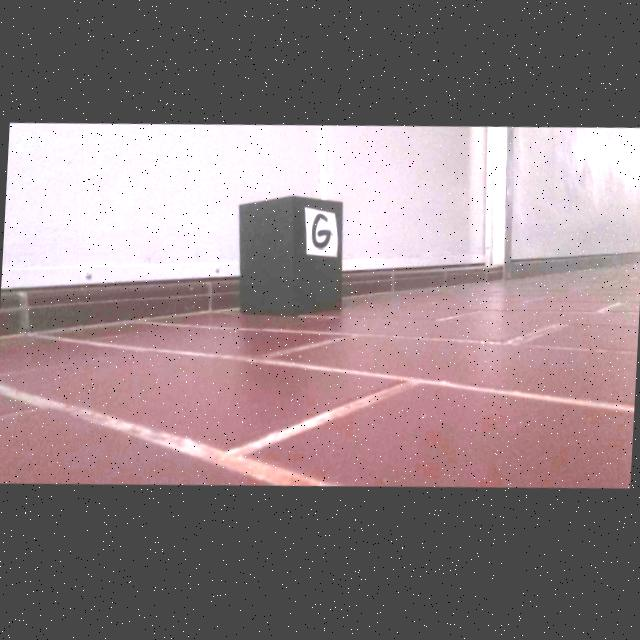G: (312, 217, 332, 252)
